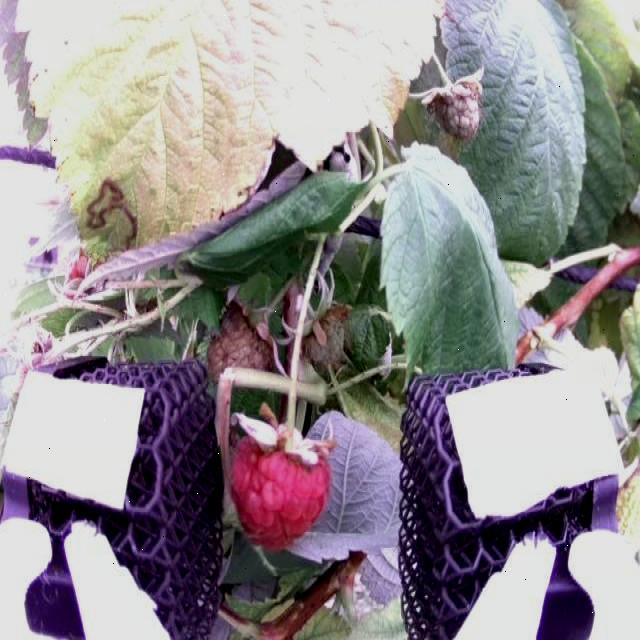Riped berries: (227, 412, 335, 552)
